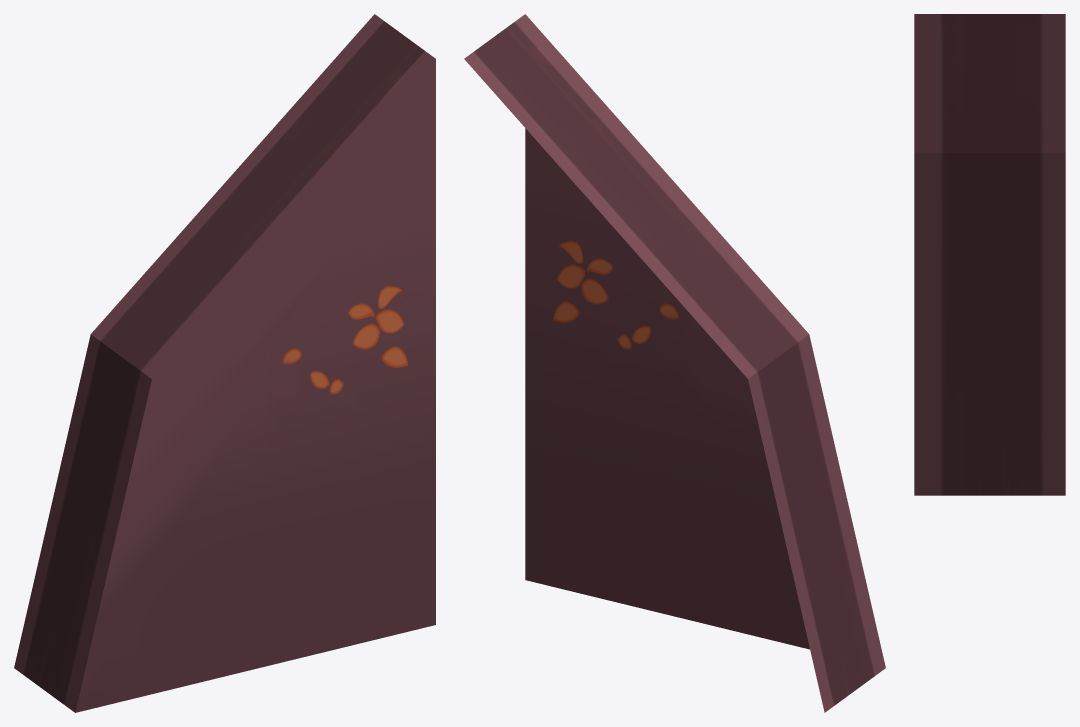
File: desertWallEndMedium_MESH.fbx
3 renders of one model, left to right at view 1: azimuth 30°, elevation 25°; view 2: azimuth 150°, elevation 25°; view 3: azimuth 270°, elevation 25°, orthographic. The views are drawn at different scales.
Visible parts, largest first — view 1: Desert_WallEndMLeft; view 2: Desert_WallEndMLeft; view 3: Desert_WallEndMLeft.
Part boxes in pixels (x1,y1,x2,y2): Desert_WallEndMLeft: (14, 14, 435, 712); Desert_WallEndMLeft: (464, 14, 885, 712); Desert_WallEndMLeft: (914, 14, 1065, 495).
Bounding box in the file's own units: 100 × 150 × 29.44.
1 material, 1 textured.
